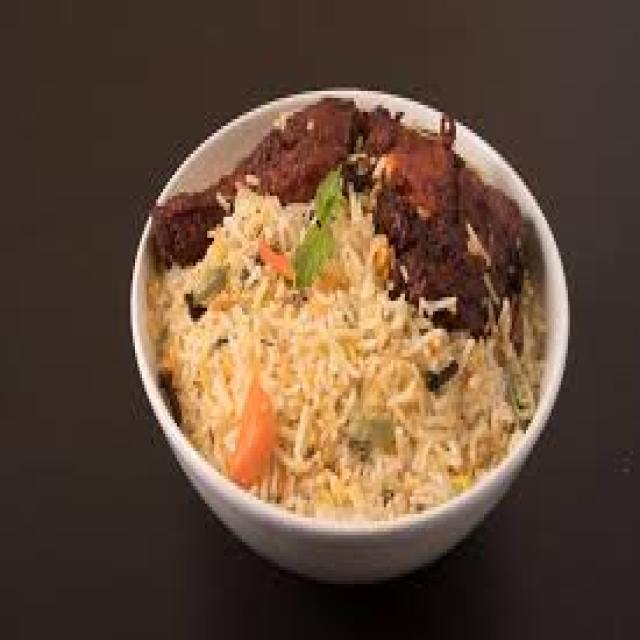Wet Waste: (141, 98, 543, 532)
